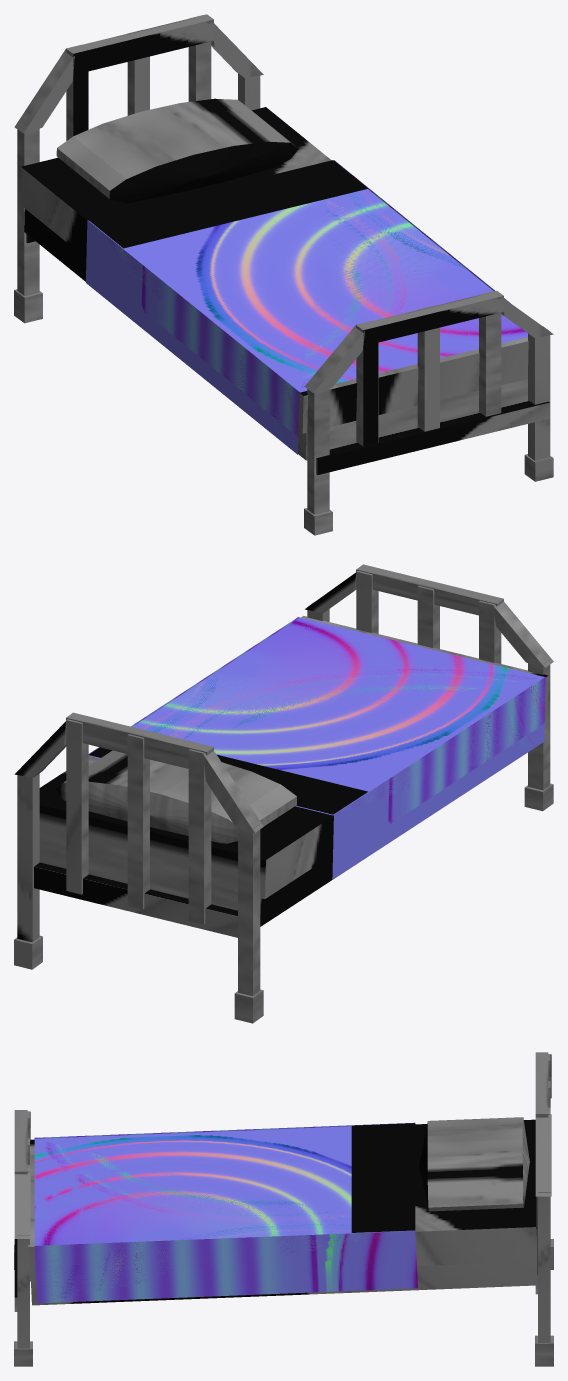
The model's file is hospital_bed.fbx.
The picture shows the model from 3 angles, top to bottom: view 1: azimuth 30°, elevation 25°; view 2: azimuth 150°, elevation 25°; view 3: azimuth 270°, elevation 25°; orthographic projection. The views are drawn at different scales.
Visible parts, largest first — view 1: cuboid_3, cuboid_2, cylinder_1, cuboid_8, cuboid_0, cuboid_5, cuboid_4, cuboid_7; view 2: cuboid_3, cuboid_8, cuboid_5, cuboid_0, cuboid_2, cylinder_1, cuboid_7, cuboid_4; view 3: cuboid_3, cuboid_6, cylinder_1, cuboid_0, cuboid_4, cuboid_8, cuboid_2, cuboid_7, cuboid_5.
Part boxes in pixels (x1,y1,x2,y2): cuboid_3: (88, 189, 527, 392); cuboid_2: (304, 291, 553, 535); cylinder_1: (56, 98, 298, 202); cuboid_8: (14, 14, 263, 323); cuboid_0: (20, 107, 528, 433); cuboid_5: (86, 220, 299, 454); cuboid_4: (88, 160, 367, 248); cuboid_7: (24, 209, 527, 460); cuboid_3: (88, 617, 544, 815); cuboid_8: (14, 712, 263, 1023); cuboid_5: (332, 677, 545, 879); cuboid_0: (39, 616, 548, 898); cuboid_2: (305, 564, 553, 811); cylinder_1: (55, 750, 296, 843); cuboid_7: (39, 844, 332, 926); cuboid_4: (89, 747, 367, 814); cuboid_3: (34, 1126, 414, 1245); cuboid_6: (34, 1231, 417, 1303); cylinder_1: (419, 1117, 529, 1211); cuboid_0: (28, 1119, 537, 1281); cuboid_4: (351, 1123, 415, 1232); cuboid_8: (535, 1052, 553, 1366); cuboid_2: (14, 1110, 32, 1366); cuboid_7: (31, 1261, 537, 1305); cuboid_5: (34, 1122, 414, 1138).
Size of the model in its own units: 0.5031 by 0.5016 by 1.06.
